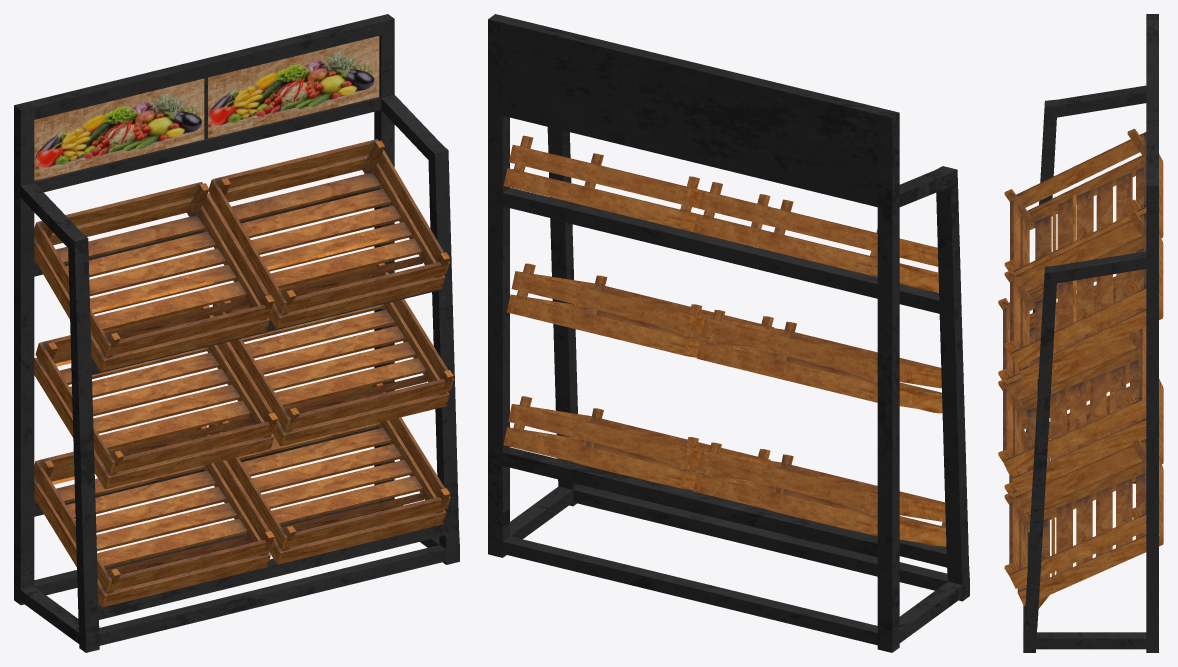
The model's file is Double_Vegetable_Rack.fbx.
The picture shows the model from 3 angles, left to right: view 1: azimuth 30°, elevation 25°; view 2: azimuth 150°, elevation 25°; view 3: azimuth 270°, elevation 25°; orthographic projection. The views are drawn at different scales.
Parts seen in each view (by area): view 1: Double_Vegetable_Rack; view 2: Double_Vegetable_Rack; view 3: Double_Vegetable_Rack.
Part boxes in pixels (<box>): Double_Vegetable_Rack: <box>14,14,459,652</box>; Double_Vegetable_Rack: <box>488,14,969,652</box>; Double_Vegetable_Rack: <box>998,14,1163,652</box>.
Size of the model in its own units: 1.46 by 1.85 by 0.5921.
